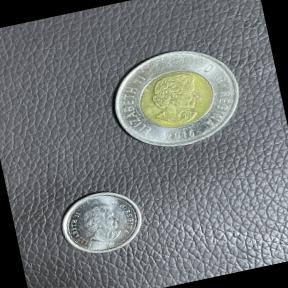coin: (98, 34, 254, 167), (52, 180, 152, 264)
